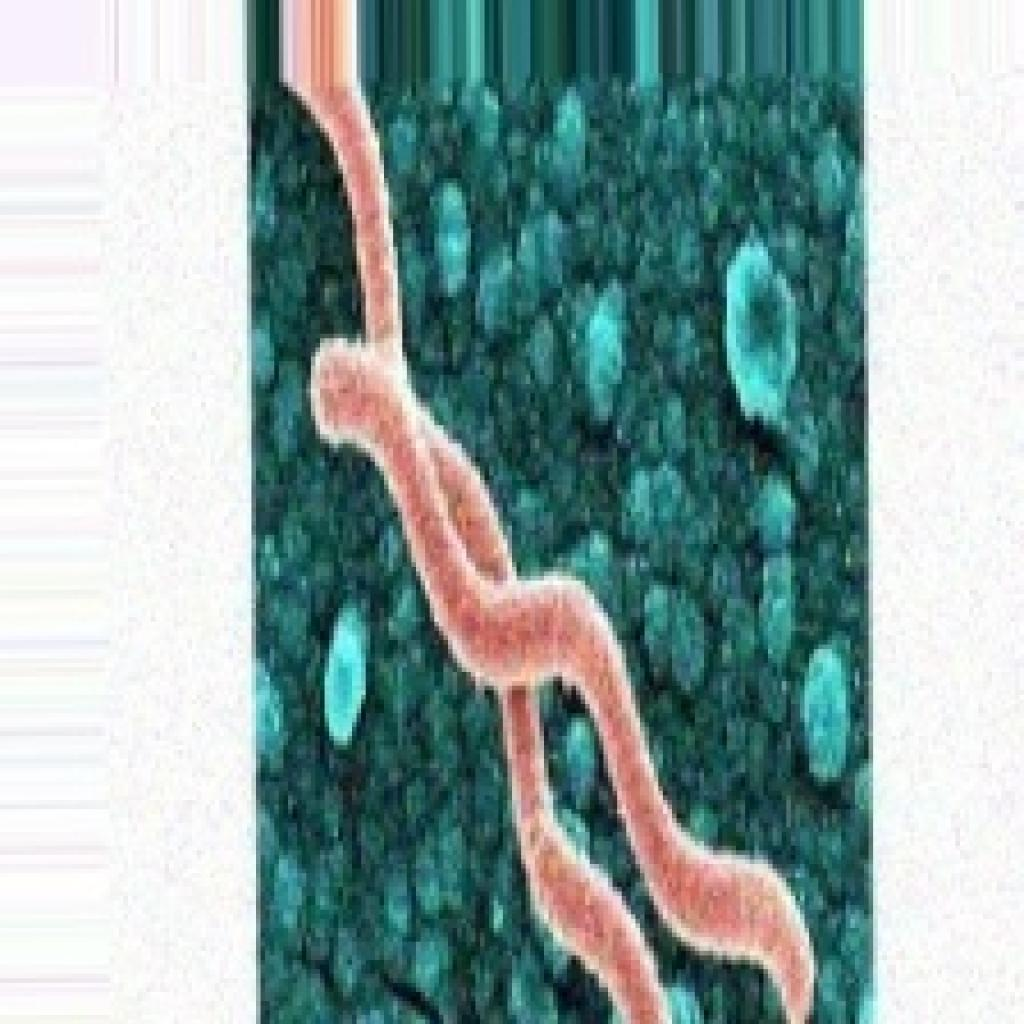Sprialbacteria: (256, 0, 864, 1019)
